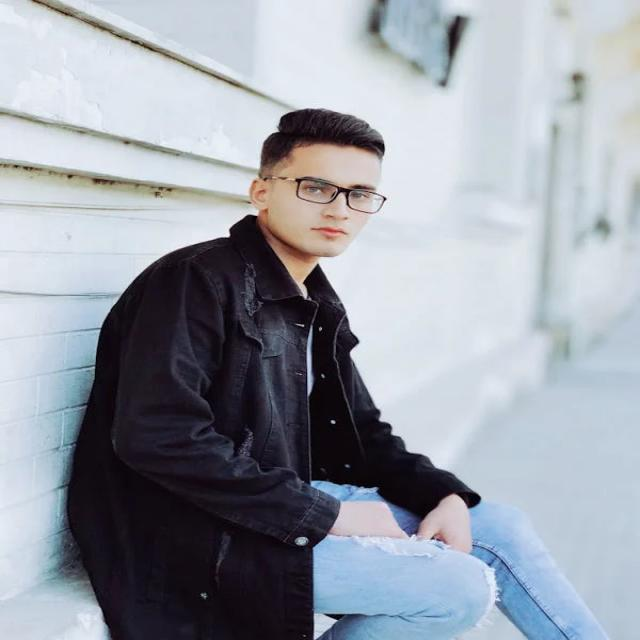Real human 2: (62, 90, 524, 640)
